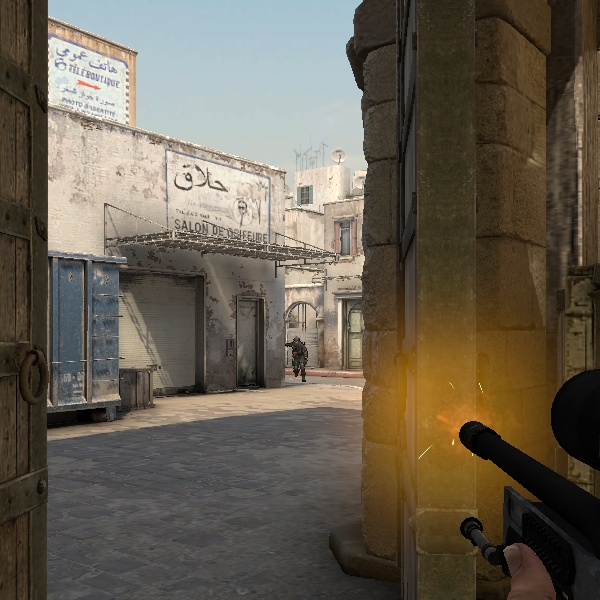ct_body: (285, 336, 312, 383)
ct_head: (293, 336, 301, 345)
